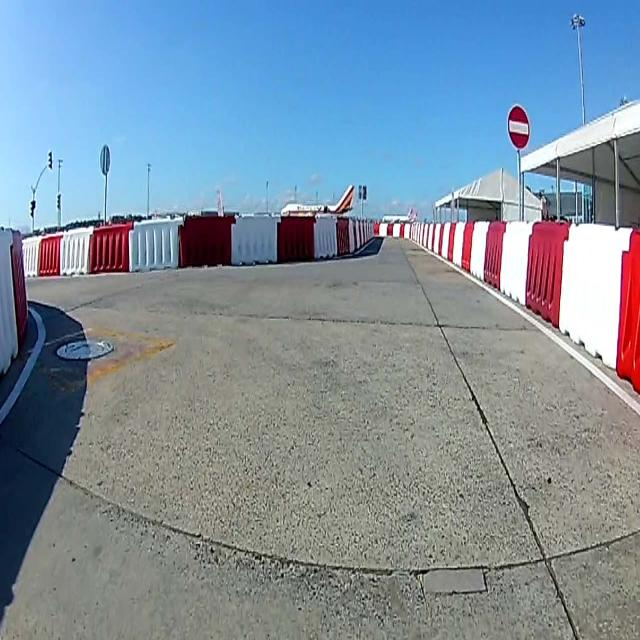girisyok: (507, 104, 531, 150)
